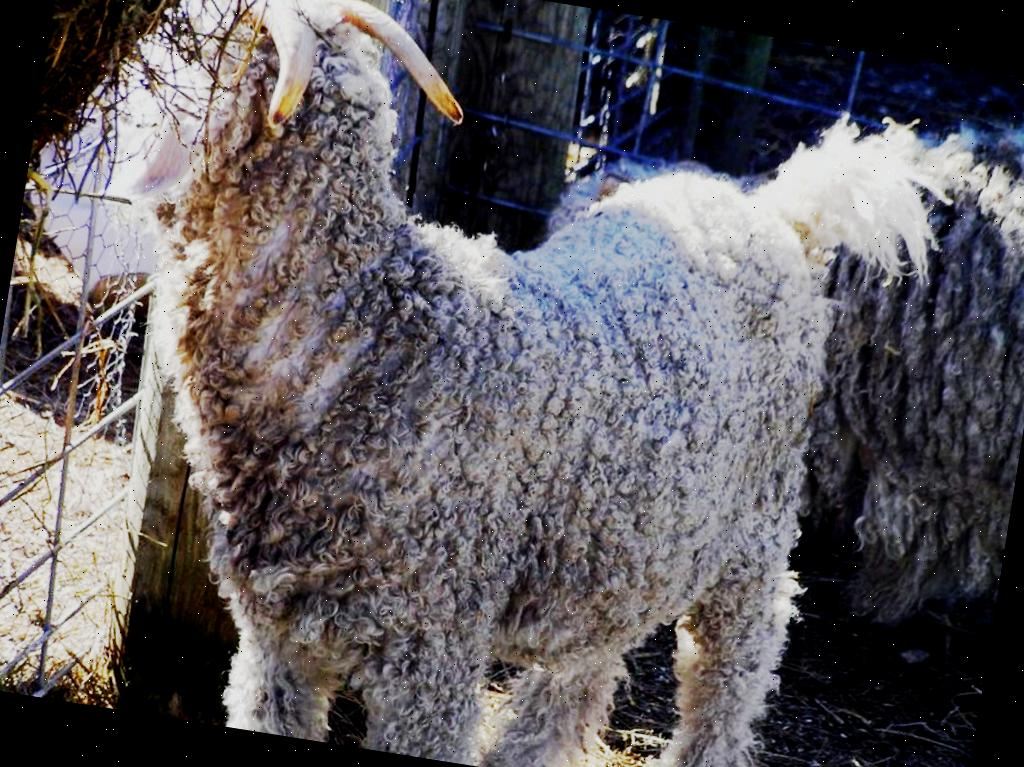Sheep: (15, 0, 879, 767), (491, 37, 1024, 647)
